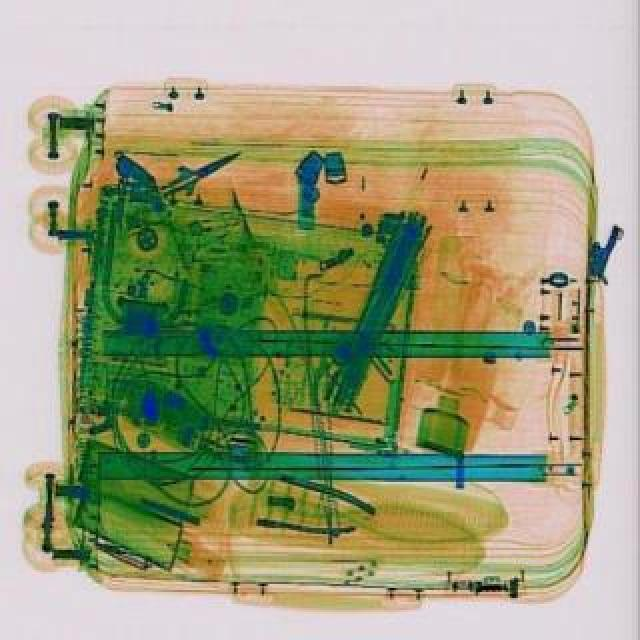knife: (156, 136, 252, 206)
